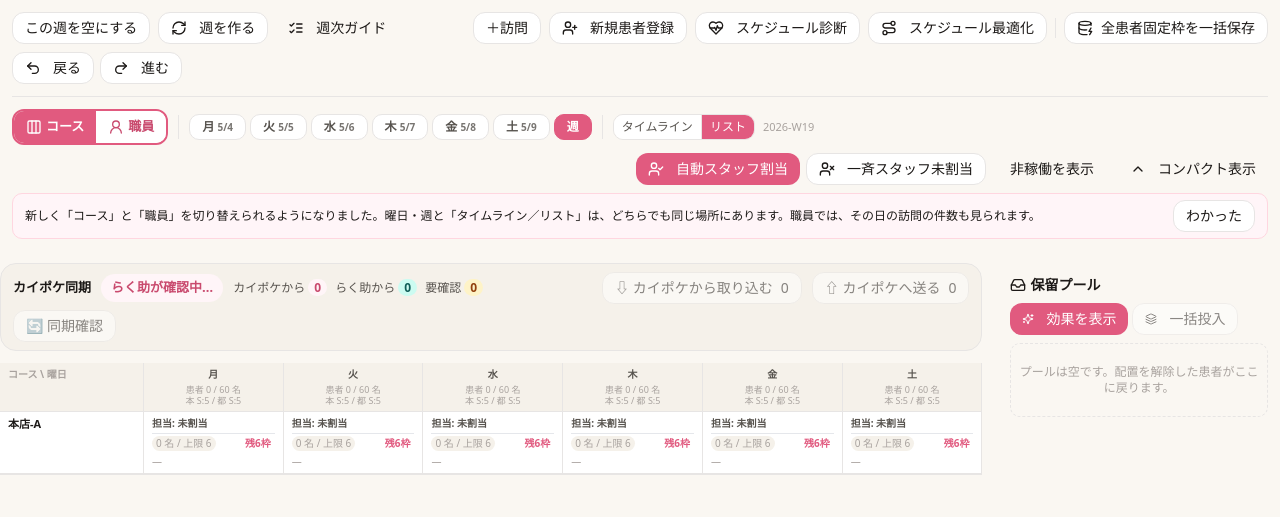
Test case: CourseDayTablePanel — 上部折りたたみ (コンパクト表示) › HC-5. 「ツール」再押下で一時展開が閉じる
Click the button with test id "schedule-header-collapse-toggle" at [1193, 169], box [1118,153,1268,185]
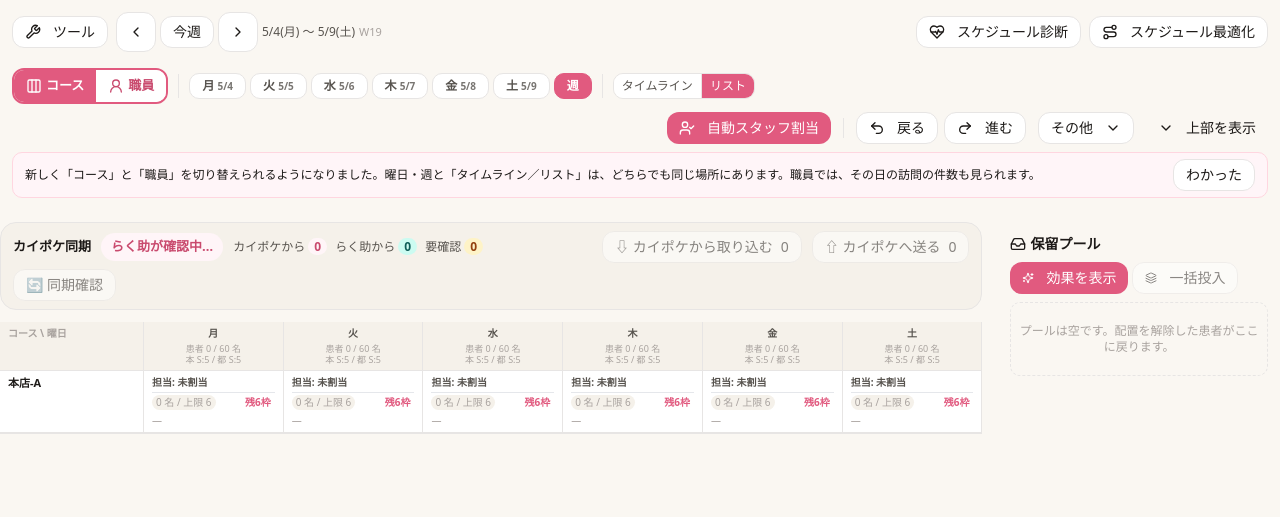
Click the button with test id "schedule-compact-tools-button" at [60, 32], box [12,16,108,48]
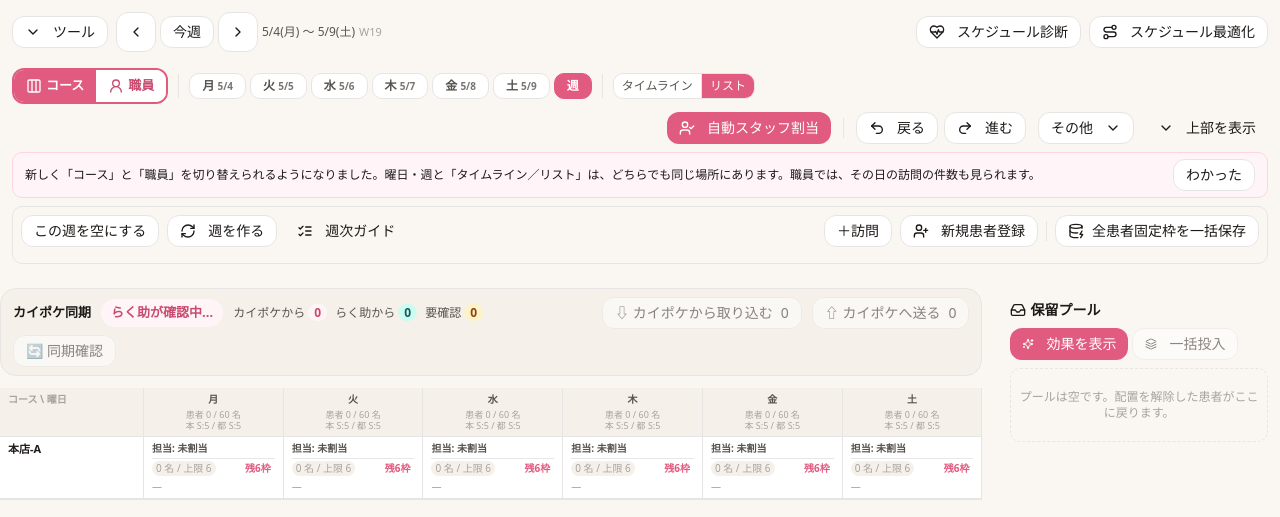
Check: the element with test id "schedule-compact-tools-popover" is shown, box [12,206,1268,264]
Click the button with test id "schedule-compact-tools-button" at [60, 32], box [12,16,108,48]
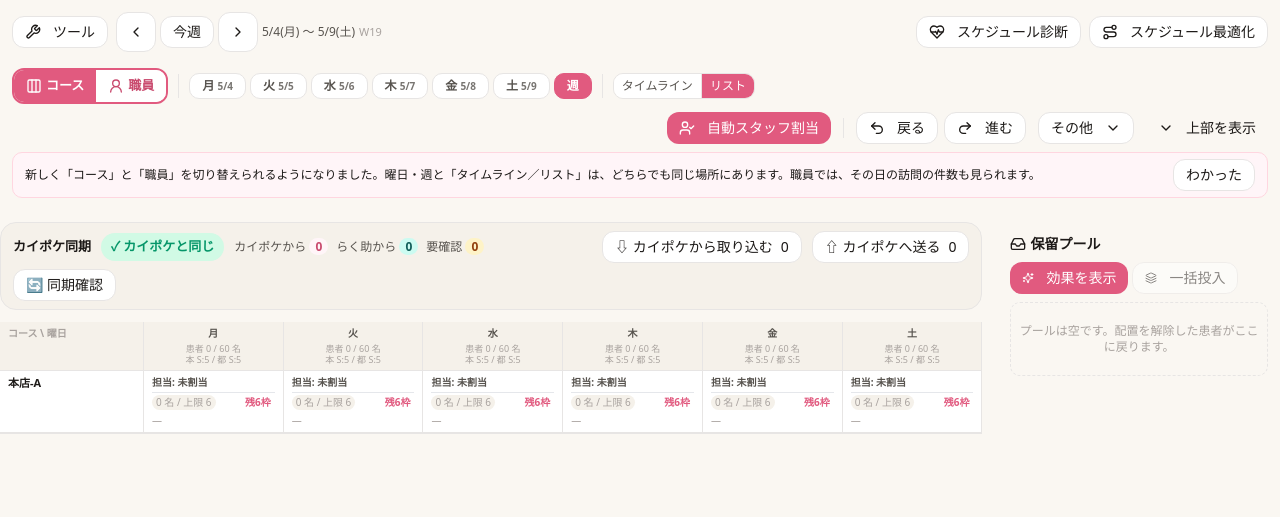
Check: the element with test id "schedule-compact-tools-popover" is gone
Check: the element with test id "schedule-main-action-toolbar" is gone
